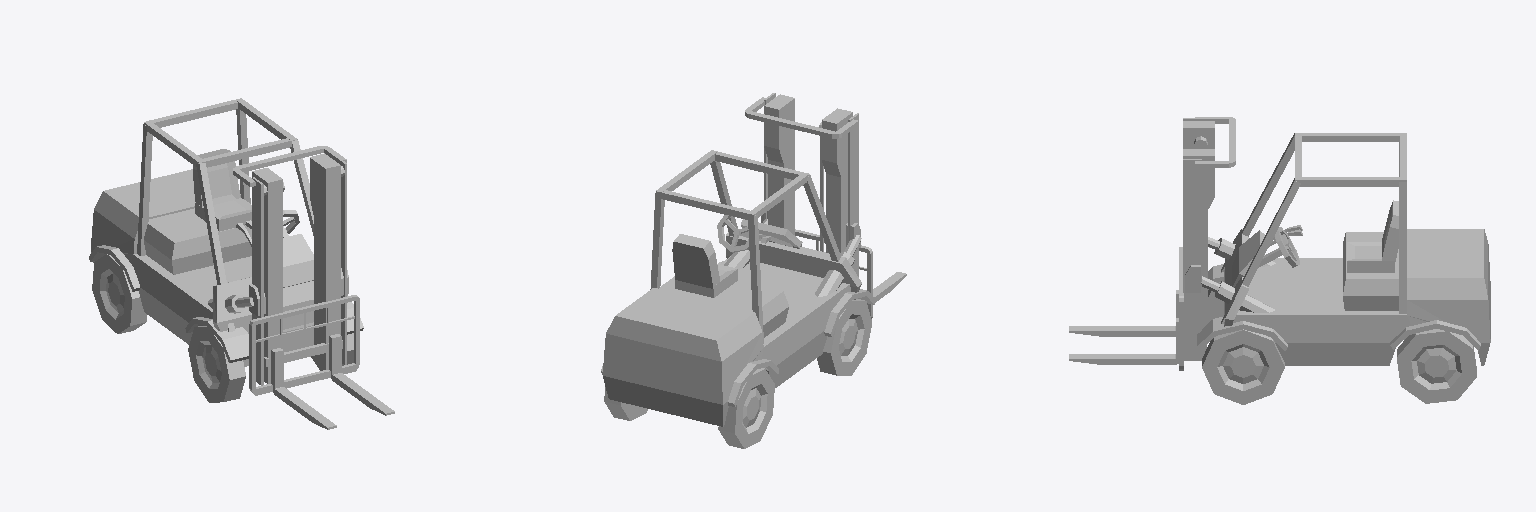
Rendered from montacarga.obj.
The picture shows the model from 3 angles: view 1: azimuth 30°, elevation 25°; view 2: azimuth 150°, elevation 25°; view 3: azimuth 270°, elevation 25°; orthographic projection.
Parts seen in each view (by area): view 1: Cylinder_002_Material_002_0, Cylinder_002_Material_014_0, Cylinder_002_Material_003_0, Cylinder_002_Material_006_0; view 2: Cylinder_002_Material_002_0, Cylinder_002_Material_014_0, Cylinder_002_Material_003_0, Cylinder_002_Material_006_0; view 3: Cylinder_002_Material_002_0, Cylinder_002_Material_014_0, Cylinder_002_Material_003_0, Cylinder_002_Material_006_0.
Part boxes in pixels (x1,y1,x2,y2): Cylinder_002_Material_002_0: (89,98,394,429); Cylinder_002_Material_014_0: (91,169,251,344); Cylinder_002_Material_003_0: (106,149,347,382); Cylinder_002_Material_006_0: (144,166,344,307); Cylinder_002_Material_002_0: (601,93,906,448); Cylinder_002_Material_014_0: (603,250,854,426); Cylinder_002_Material_003_0: (672,122,861,427); Cylinder_002_Material_006_0: (659,125,861,337); Cylinder_002_Material_002_0: (1069,117,1480,404); Cylinder_002_Material_014_0: (1214,229,1490,365); Cylinder_002_Material_003_0: (1194,136,1456,383); Cylinder_002_Material_006_0: (1194,137,1398,321).
Bounding box in the file's own units: 179 × 300 × 488.